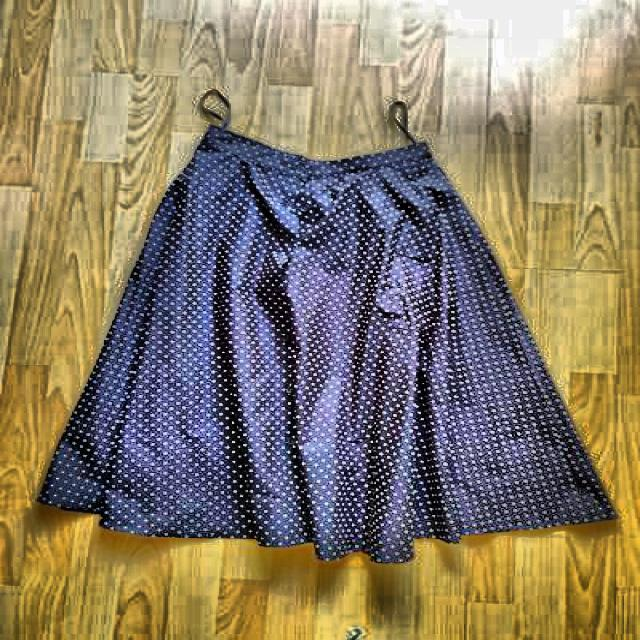clothes: (35, 123, 621, 572)
